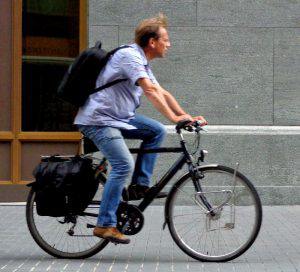bikerider: (25, 12, 269, 266)
